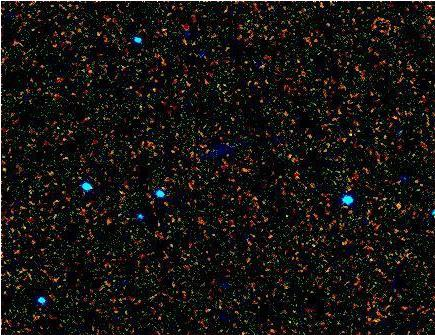star: (383, 189, 413, 219)
